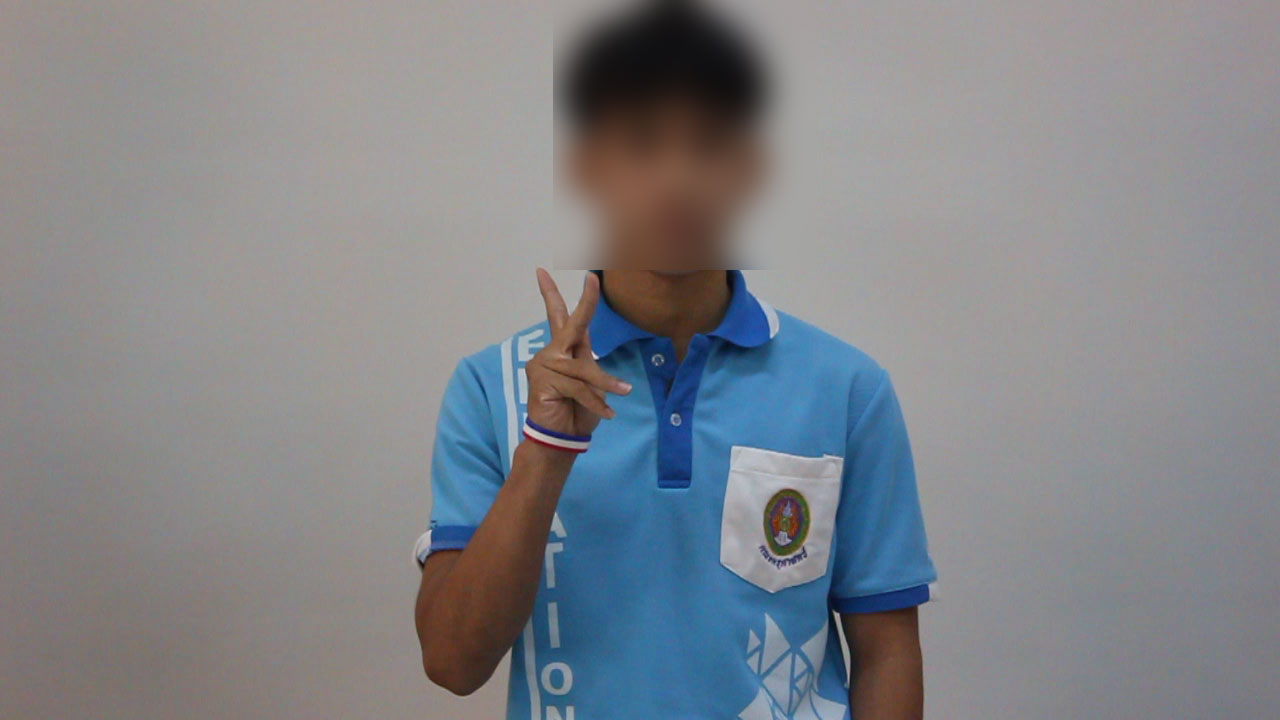ko: (503, 262, 637, 442)
